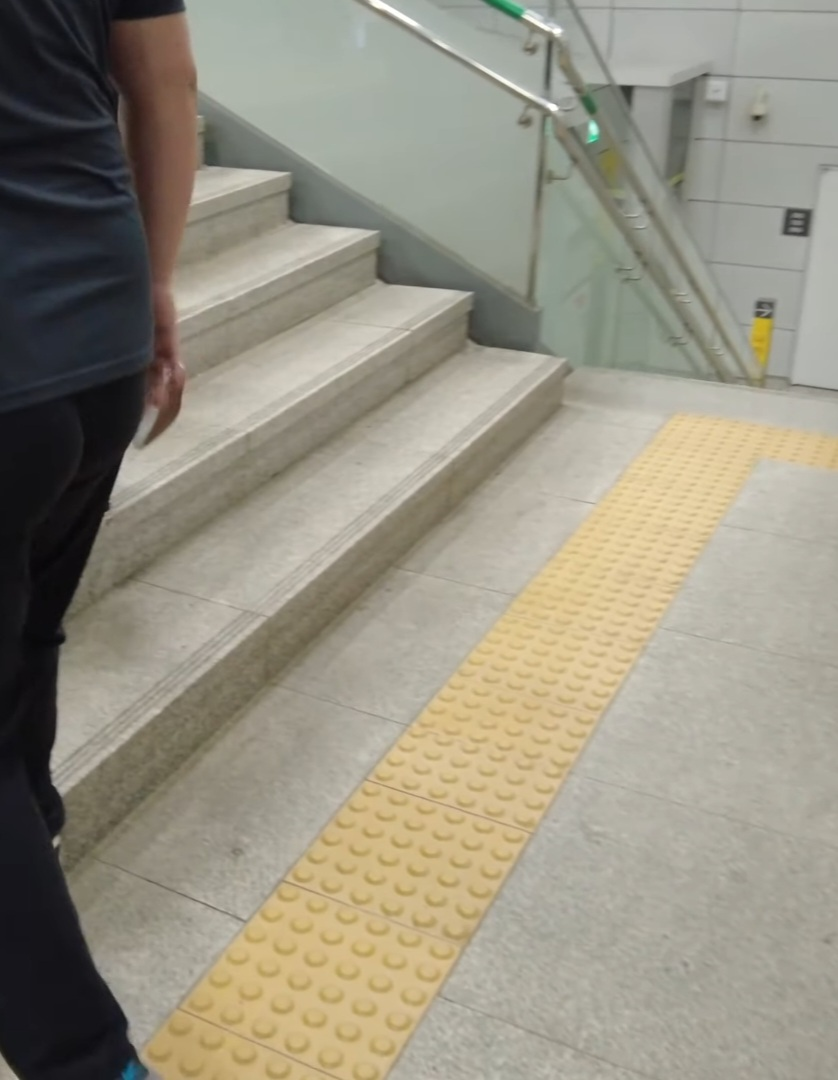warningBlock: (251, 892, 460, 1043), (320, 793, 502, 944), (411, 700, 584, 837), (481, 625, 622, 756), (539, 577, 668, 681), (565, 504, 685, 601), (637, 446, 745, 552)
